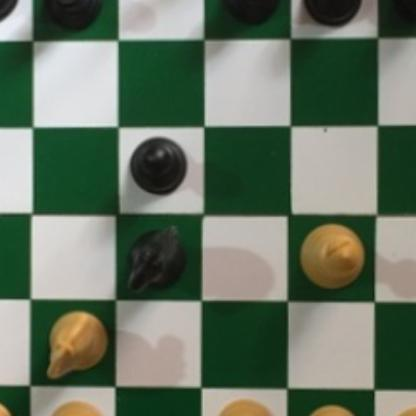black-knight: (119, 220, 187, 296)
black-pawn: (124, 129, 189, 197), (31, 0, 99, 29), (219, 0, 280, 31), (299, 0, 362, 28), (388, 0, 416, 29), (0, 0, 19, 19)
white-bishop: (296, 210, 374, 294)
white-knight: (42, 306, 110, 380)
white-pawn: (212, 395, 276, 416), (40, 397, 106, 416), (301, 404, 367, 416), (0, 394, 19, 416), (387, 408, 416, 416)
